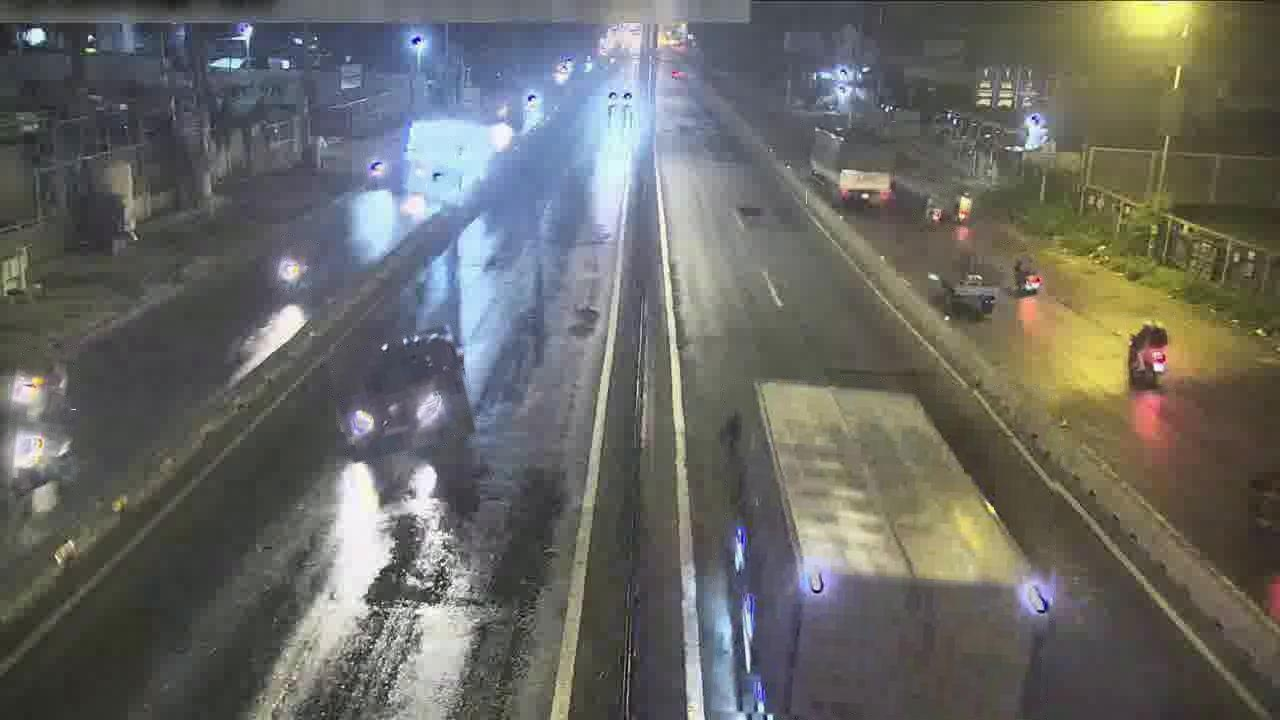Car: (336, 330, 469, 457)
Motorcyclist: (7, 415, 77, 493), (0, 352, 73, 422), (1126, 321, 1169, 389), (274, 247, 311, 297), (1010, 251, 1043, 297), (922, 186, 950, 225), (952, 188, 972, 225), (366, 158, 389, 189), (408, 154, 427, 188), (428, 167, 447, 190), (456, 144, 466, 159)
Truck: (725, 381, 1051, 719), (809, 127, 893, 207)
